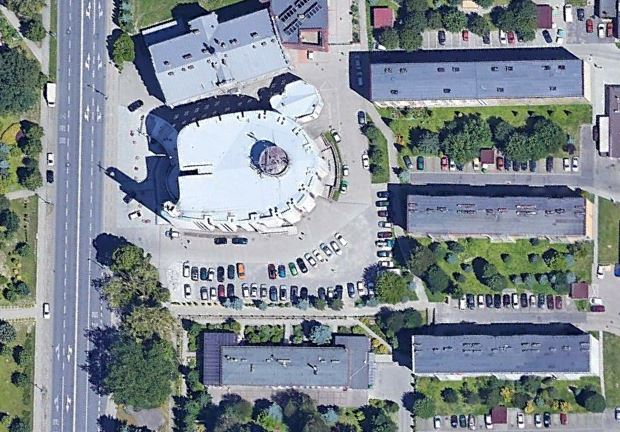block of flats: (146, 5, 286, 110), (197, 326, 384, 394), (369, 56, 595, 112), (403, 191, 596, 243), (408, 329, 603, 379)
church: (148, 75, 331, 235)
